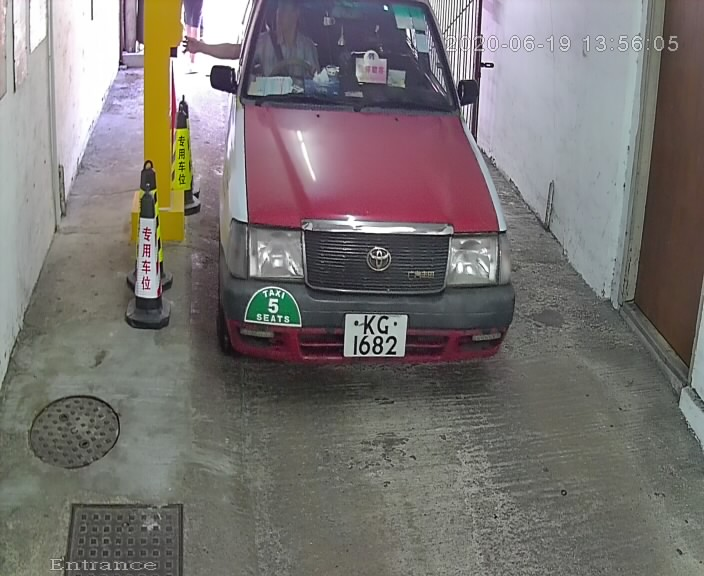taxi: (194, 2, 528, 389)
taxi_mark: (240, 280, 308, 338)
